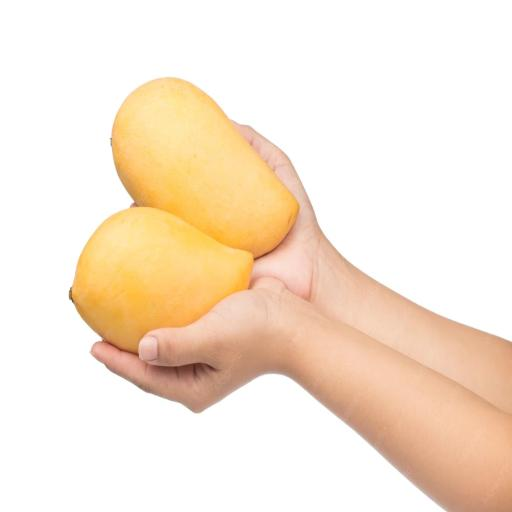mango: (112, 78, 299, 257), (70, 208, 252, 352)
